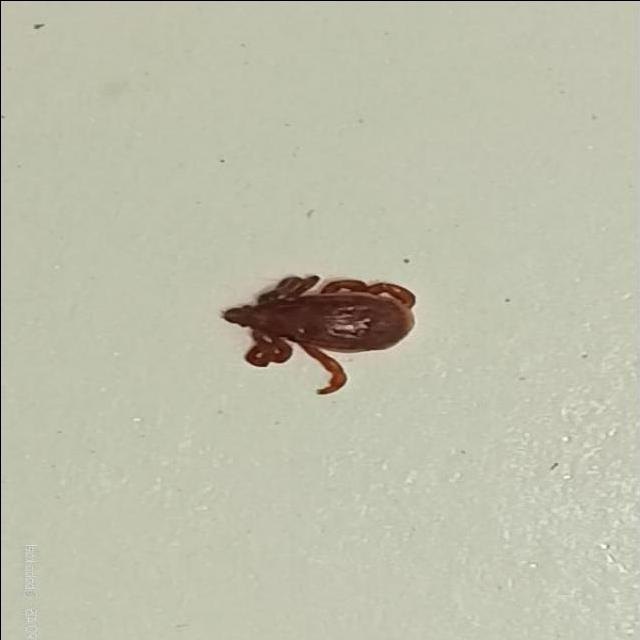Rhipicephalus Sanguineus-M: (219, 272, 415, 393)
